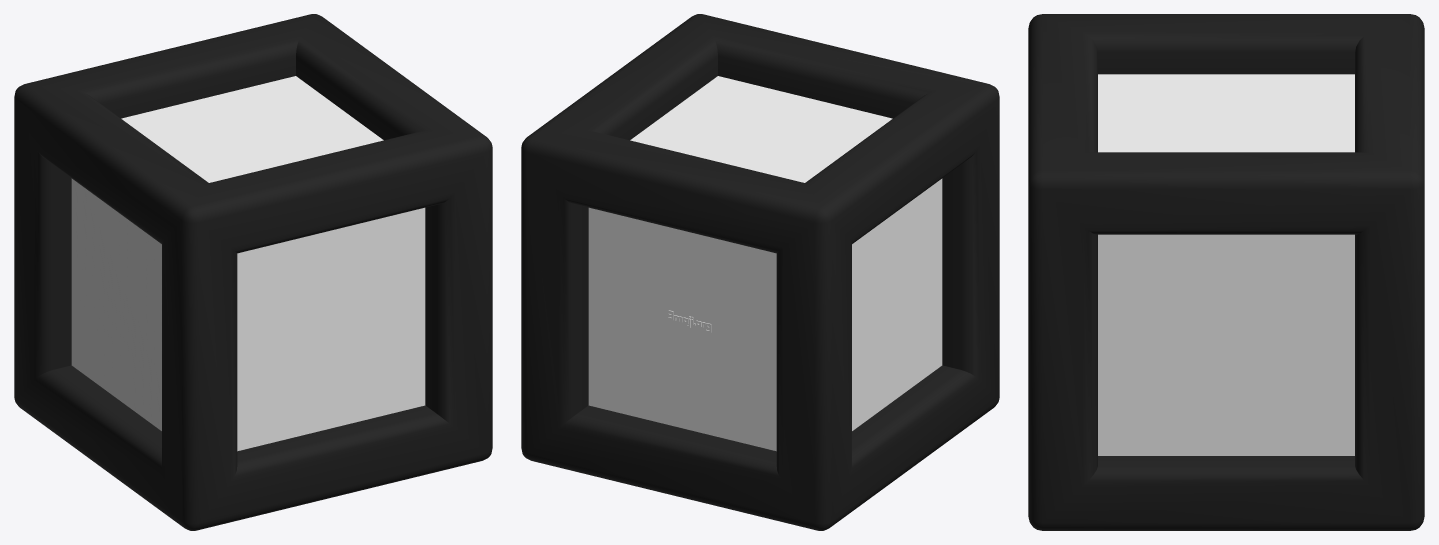
Rendered from black_square_button.glb.
The picture shows the model from 3 angles, left to right: view 1: azimuth 30°, elevation 25°; view 2: azimuth 150°, elevation 25°; view 3: azimuth 270°, elevation 25°; orthographic projection. The views are drawn at different scales.
Parts seen in each view (by area): view 1: brown_square.010; view 2: brown_square.010; view 3: brown_square.010.
Boxes of the visible parts, box(x1,y1,x2,y2) form: brown_square.010: box(14, 14, 492, 530); brown_square.010: box(521, 14, 999, 530); brown_square.010: box(1028, 14, 1424, 530).
Size of the model in its own units: 1.92 by 1.92 by 1.92.
1 material, 1 textured.
